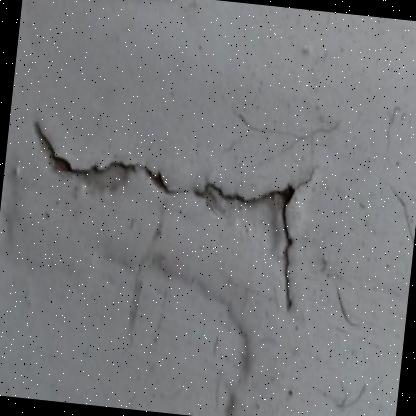Crack: (171, 84, 346, 334), (0, 94, 193, 280), (353, 96, 415, 323), (310, 344, 381, 415), (329, 271, 359, 344)
